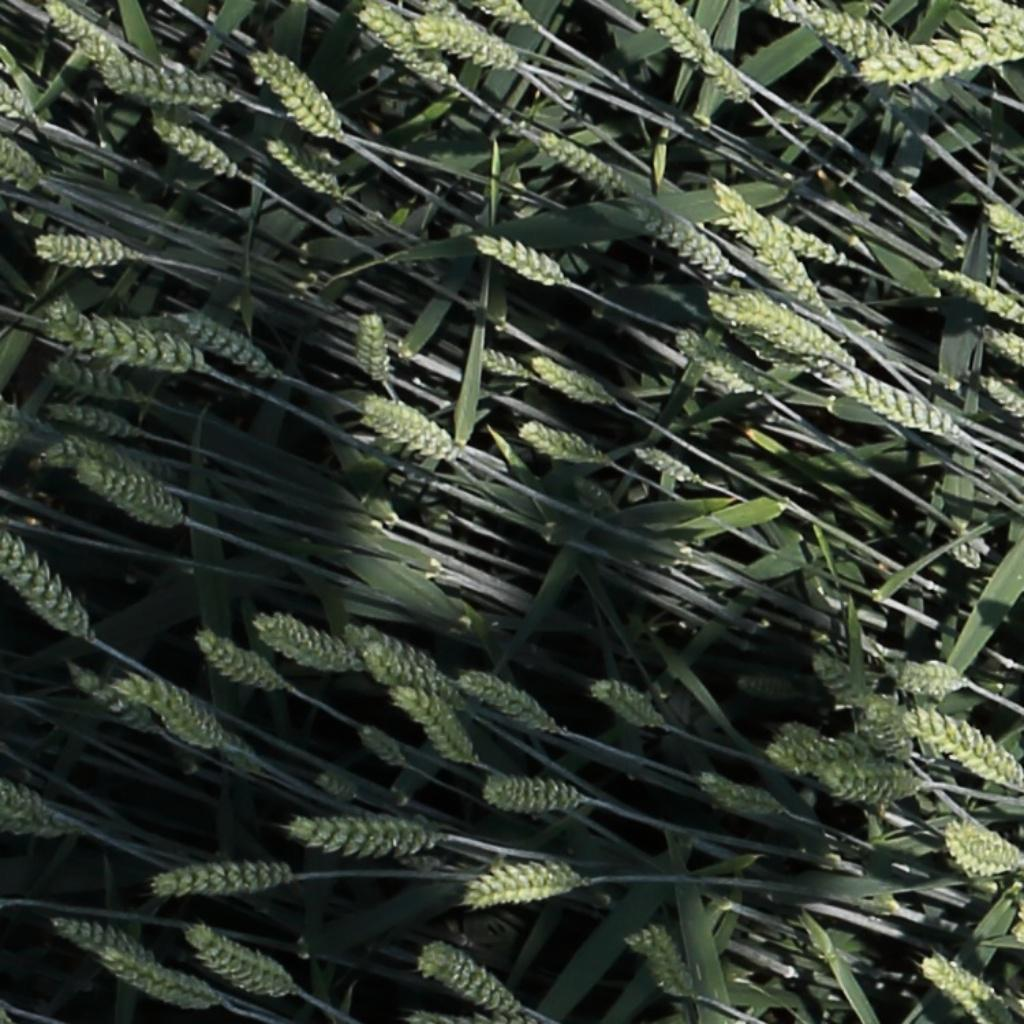0-0: (711, 177, 827, 316), (38, 295, 217, 384), (809, 359, 968, 439), (0, 532, 92, 640), (762, 0, 934, 54), (770, 745, 916, 806), (247, 51, 341, 139), (185, 927, 305, 995), (122, 679, 238, 749), (279, 811, 448, 859), (722, 296, 845, 361), (419, 943, 524, 1019), (905, 716, 1019, 786), (355, 2, 449, 86), (629, 200, 730, 274), (391, 686, 481, 769), (34, 434, 174, 487), (166, 312, 277, 376), (78, 463, 189, 527), (815, 656, 915, 724), (252, 605, 356, 669), (360, 400, 463, 463), (456, 673, 557, 734), (66, 667, 154, 735), (101, 954, 212, 1007), (920, 943, 998, 1018), (42, 1, 126, 70), (464, 860, 589, 906), (148, 114, 236, 177), (536, 129, 623, 191), (191, 630, 278, 692), (861, 698, 930, 776), (625, 923, 693, 1002), (674, 327, 753, 394), (146, 861, 301, 895), (344, 625, 439, 677), (936, 268, 1024, 324), (95, 65, 226, 102), (51, 918, 151, 966), (473, 232, 566, 283), (262, 136, 339, 197), (634, 0, 708, 62), (415, 21, 516, 66), (359, 647, 445, 697), (765, 217, 851, 266), (528, 353, 610, 404), (775, 723, 865, 767), (517, 421, 604, 465), (47, 360, 139, 401), (481, 776, 594, 809), (31, 236, 143, 269), (946, 828, 1024, 875), (357, 304, 397, 392), (591, 681, 662, 730), (43, 404, 140, 439), (694, 45, 752, 103), (425, 0, 505, 42), (696, 776, 782, 815), (565, 479, 628, 522), (632, 445, 701, 482), (983, 327, 1024, 389), (891, 660, 970, 692), (984, 200, 1024, 259), (354, 724, 404, 768), (978, 374, 1024, 421), (956, 0, 1024, 30), (948, 529, 987, 577), (0, 140, 43, 182), (476, 348, 532, 380), (0, 783, 51, 818), (2, 817, 83, 838), (735, 678, 797, 699), (483, 1, 533, 27), (312, 772, 356, 801), (0, 415, 30, 454)
